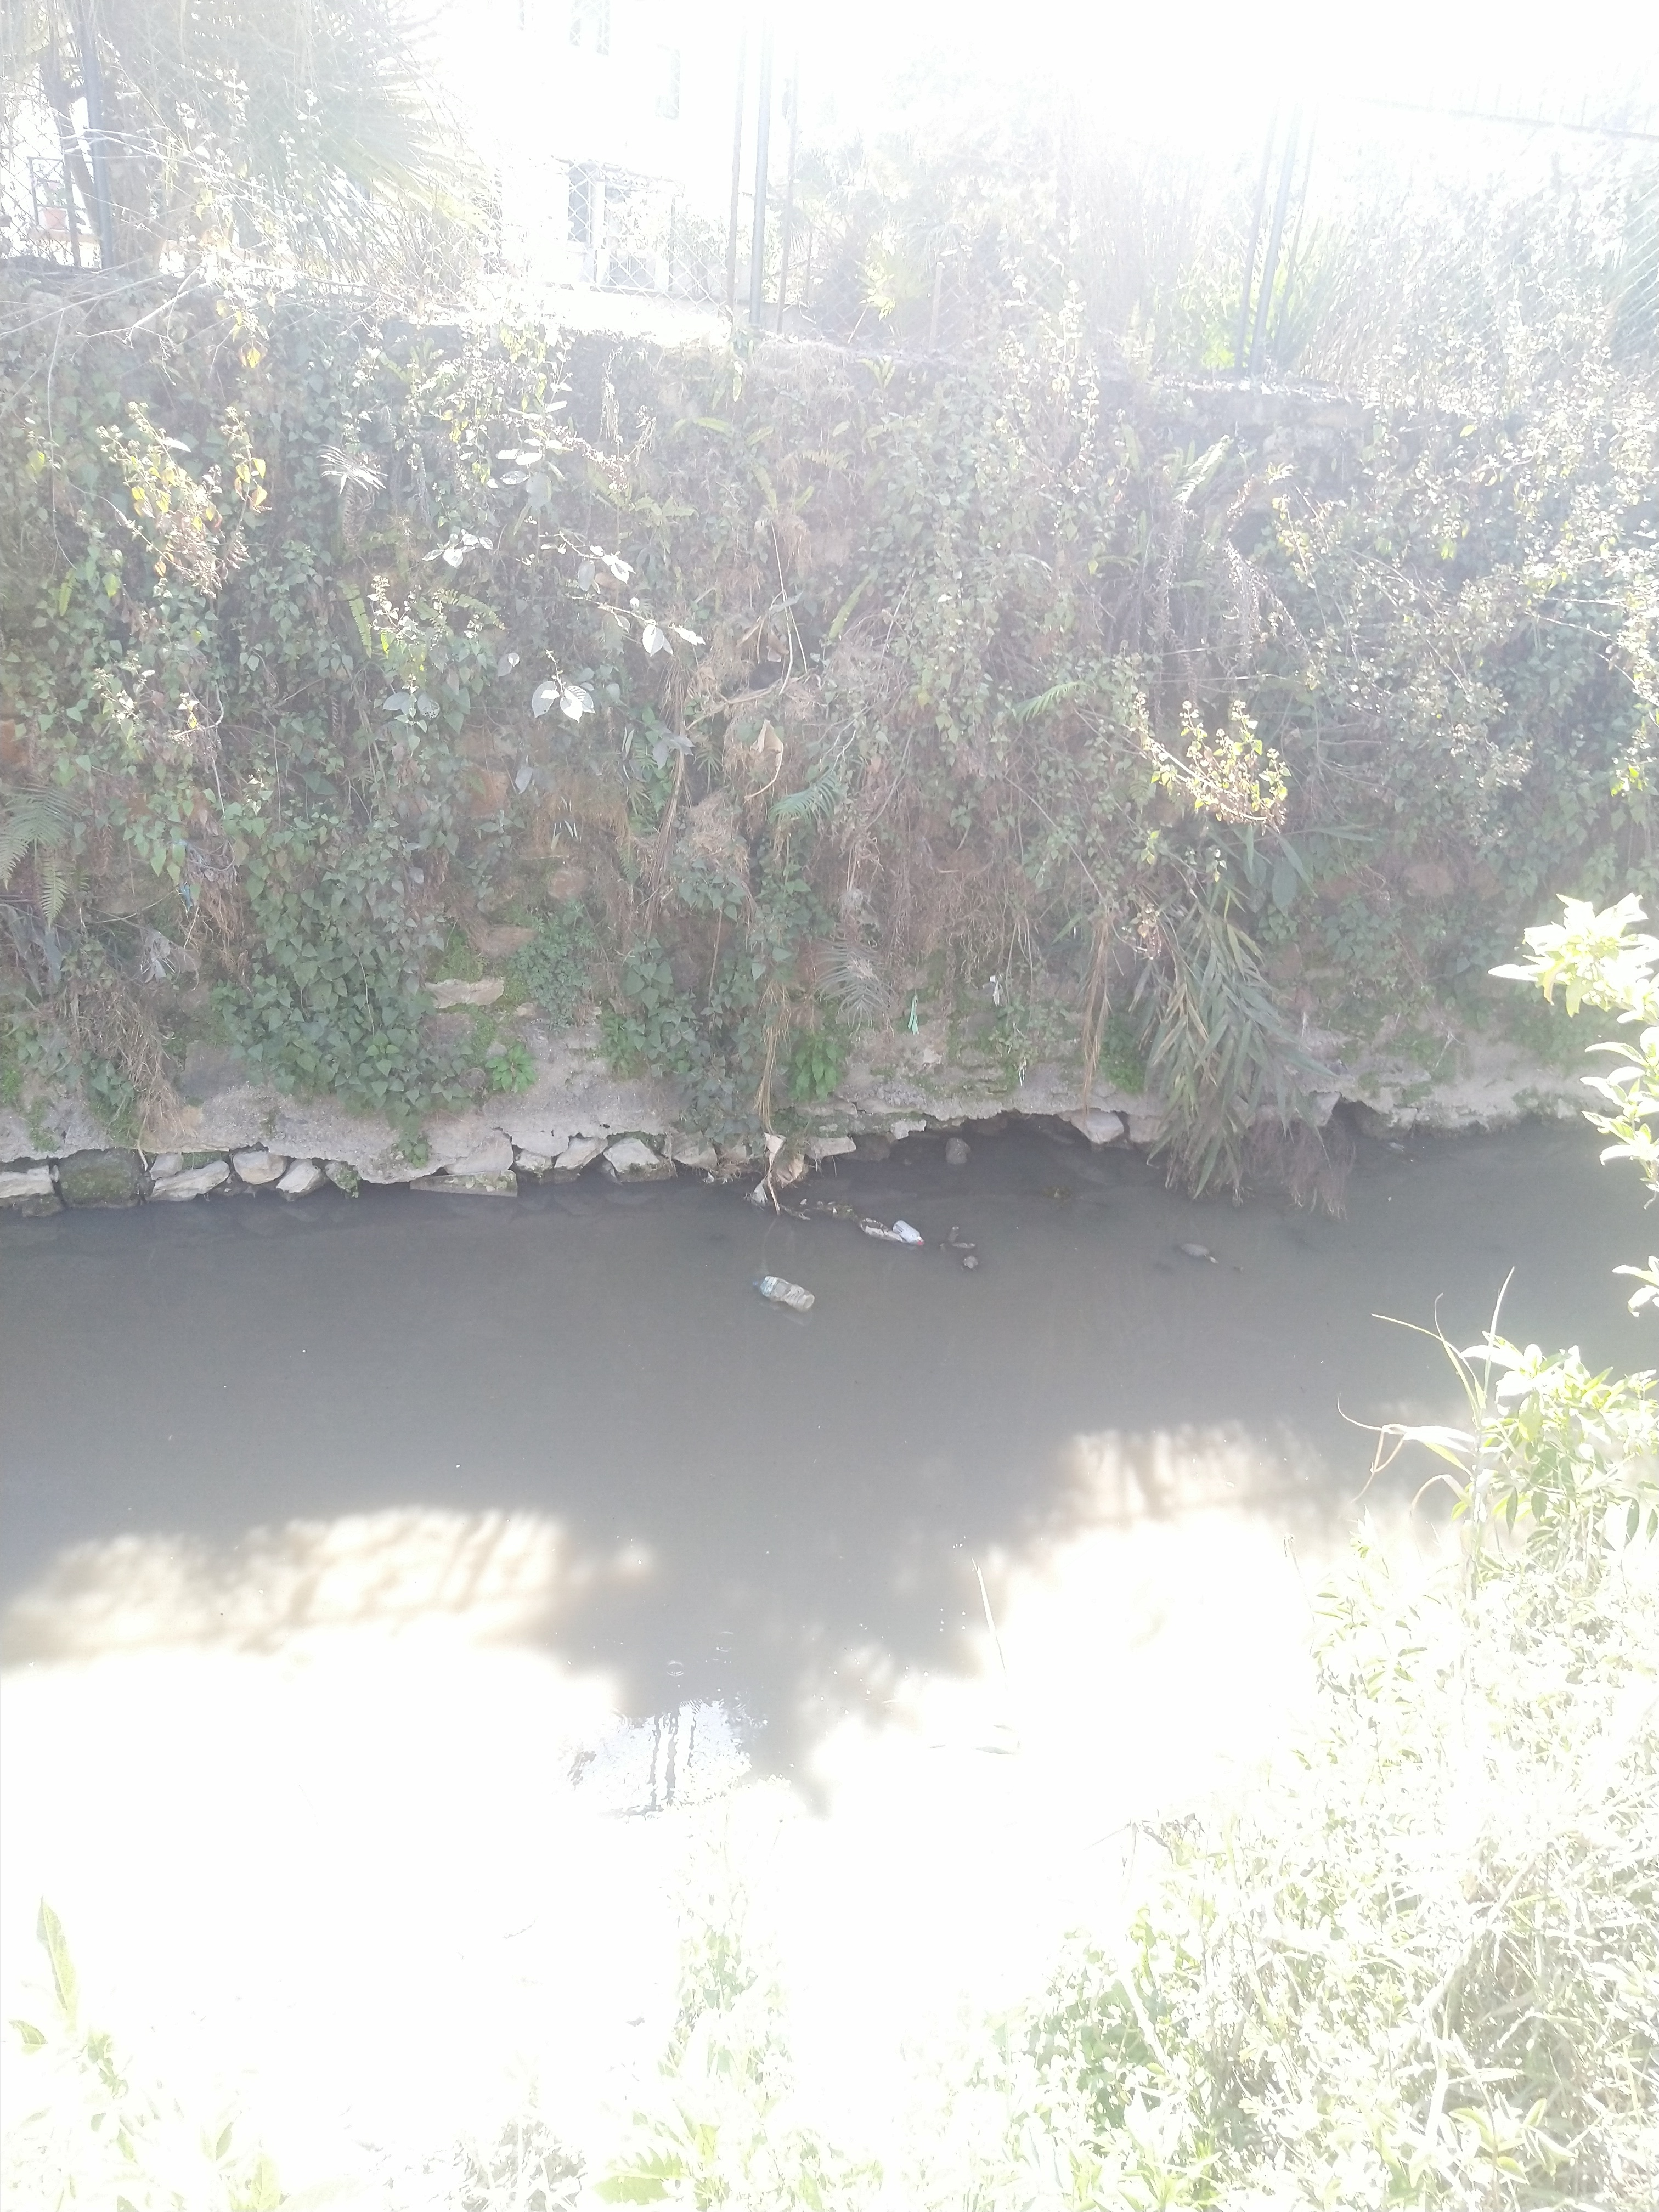Plastic Bottle: (753, 1275, 814, 1312), (892, 1219, 924, 1245)
